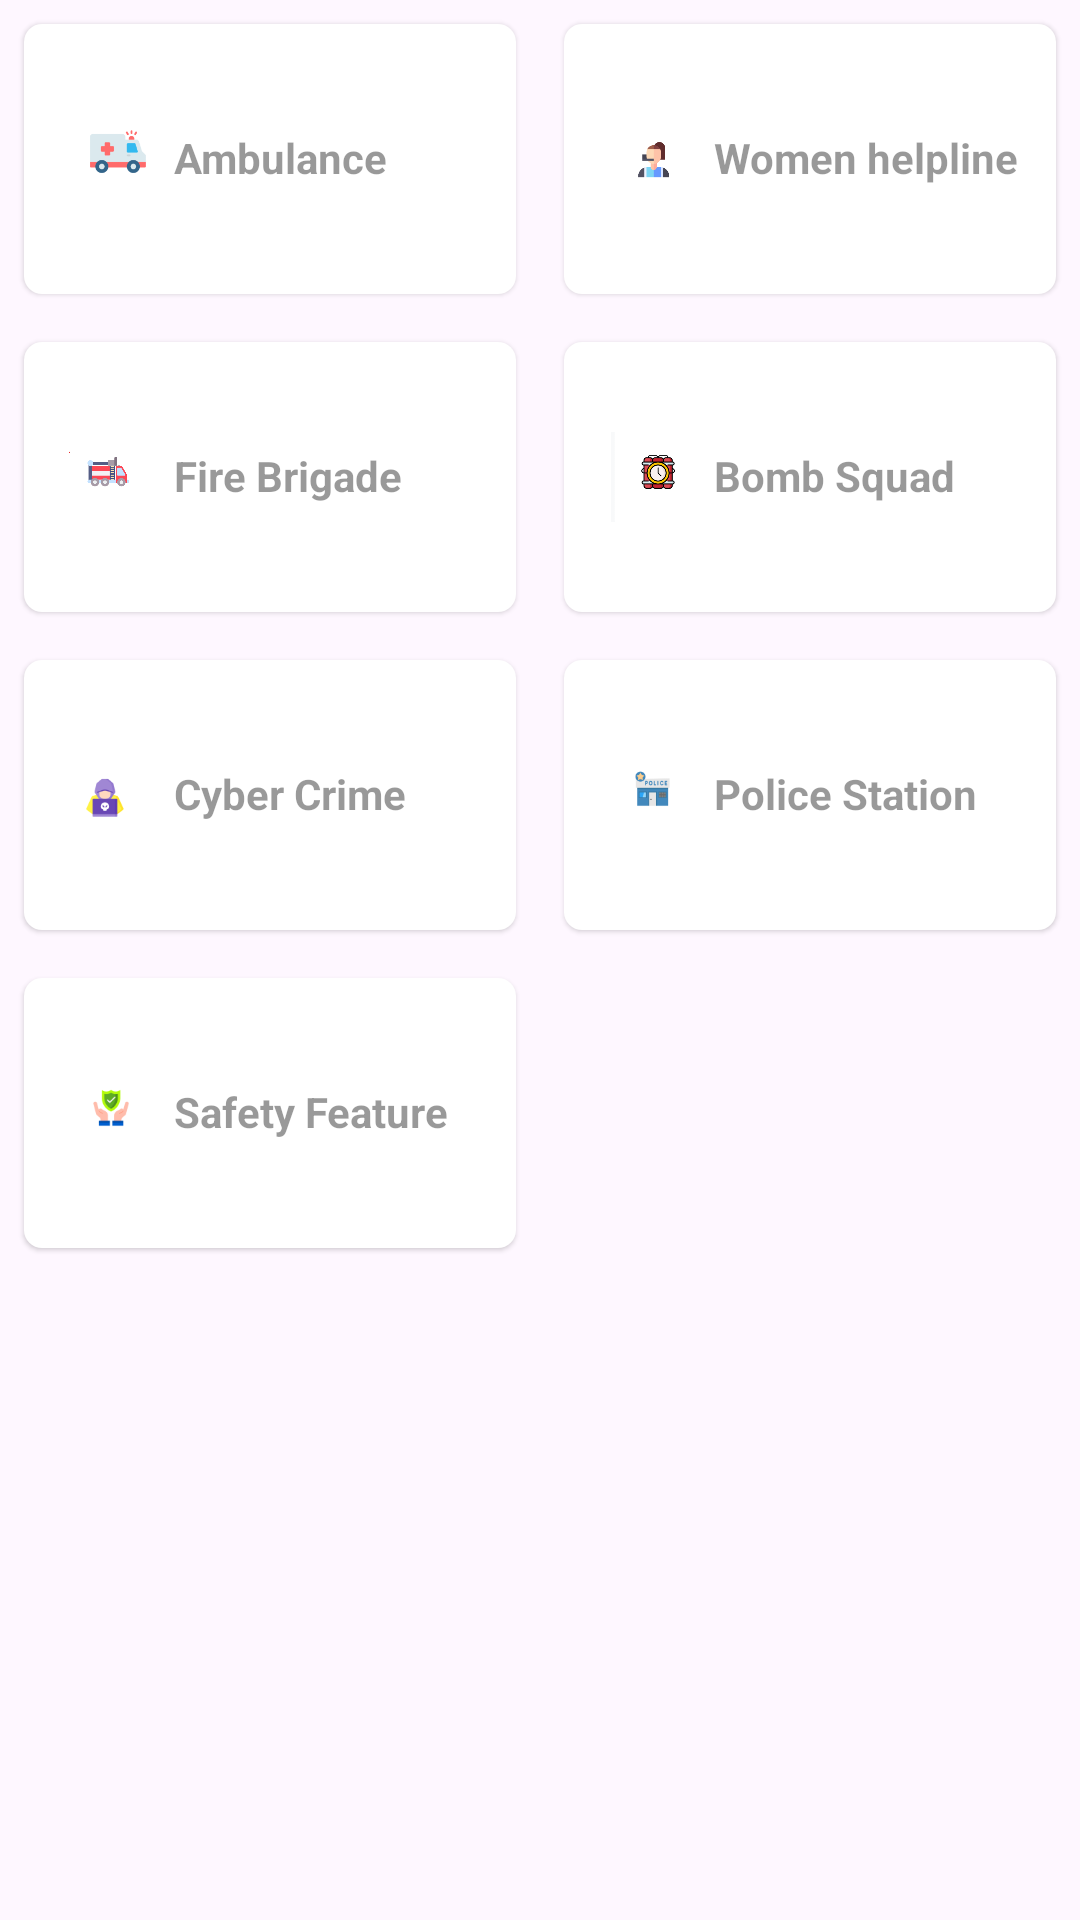

Where icons sit on this 1080w x 1920h app screen, as [left=x1, top=y1, right=x2, bottom=y2]:
amb: [left=90, top=130, right=146, bottom=173]
